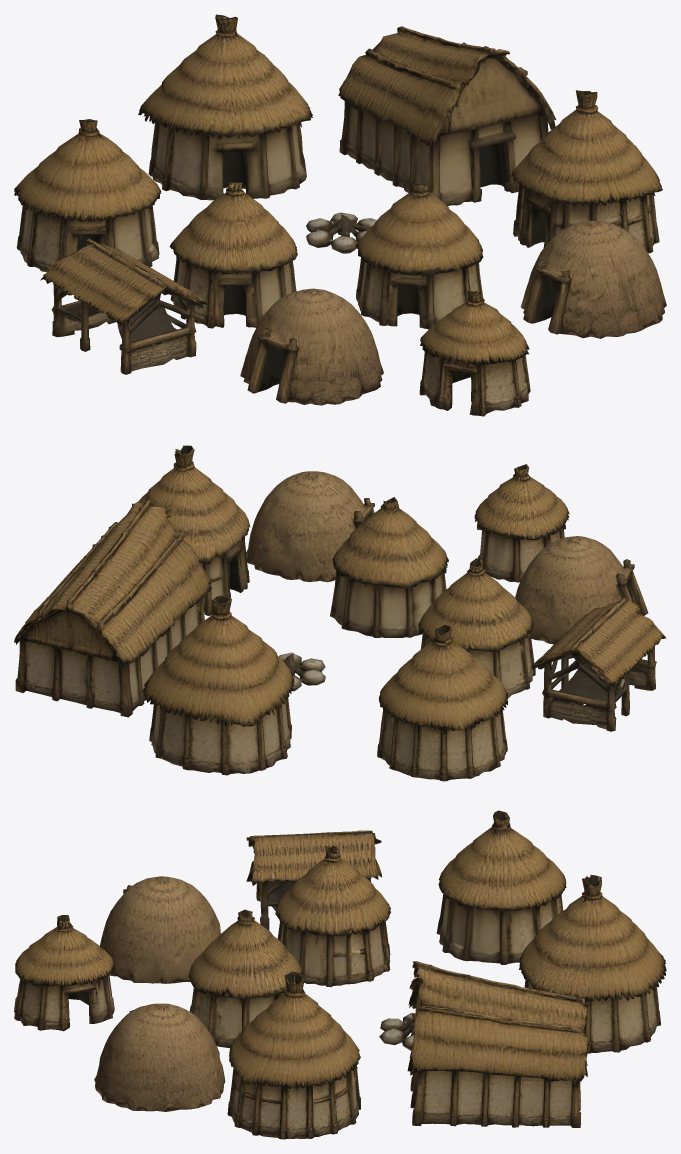
File: Prehistoric Village (Western).fbx
3 renders of one model, top to bottom at view 1: azimuth 30°, elevation 25°; view 2: azimuth 150°, elevation 25°; view 3: azimuth 270°, elevation 25°, orthographic. The views are drawn at different scales.
Visible parts, largest first — view 1: tripo_node_3177b41c; view 2: tripo_node_3177b41c; view 3: tripo_node_3177b41c.
Boxes of the visible parts, x1,y1,x2,y2 form: tripo_node_3177b41c: (14,14,666,416); tripo_node_3177b41c: (14,445,666,781); tripo_node_3177b41c: (14,810,666,1139).
Size of the model in its own units: 0.9279 by 0.255 by 1.
